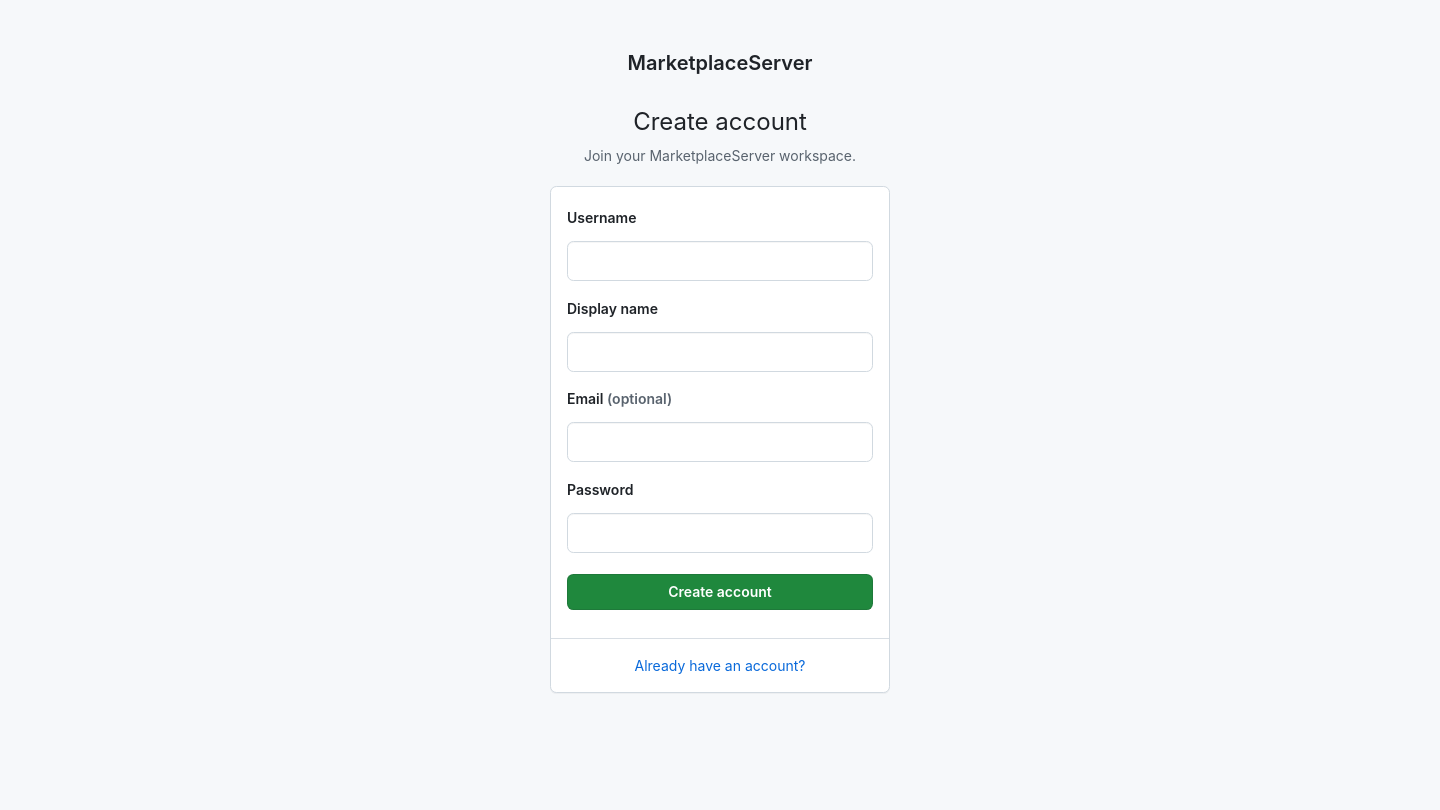
Scenario: identity console › loads the registered user profile immediately after signup
Type "alice" into the field labelled "Username" at coordinates (720, 261), box x1=567 y1=241 x2=873 y2=281
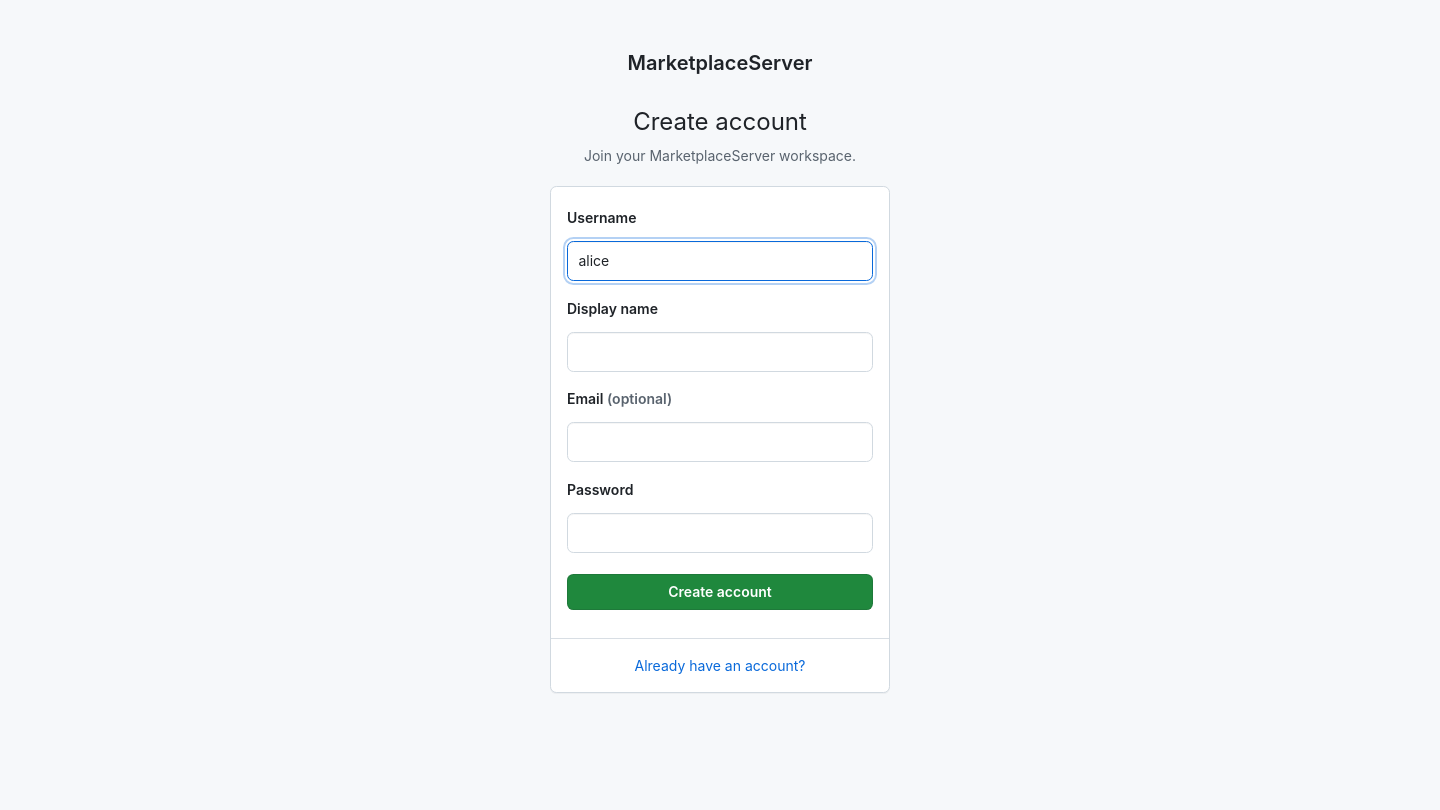
Type "Alice" into the field labelled "Display name" at coordinates (720, 352), box x1=567 y1=332 x2=873 y2=372
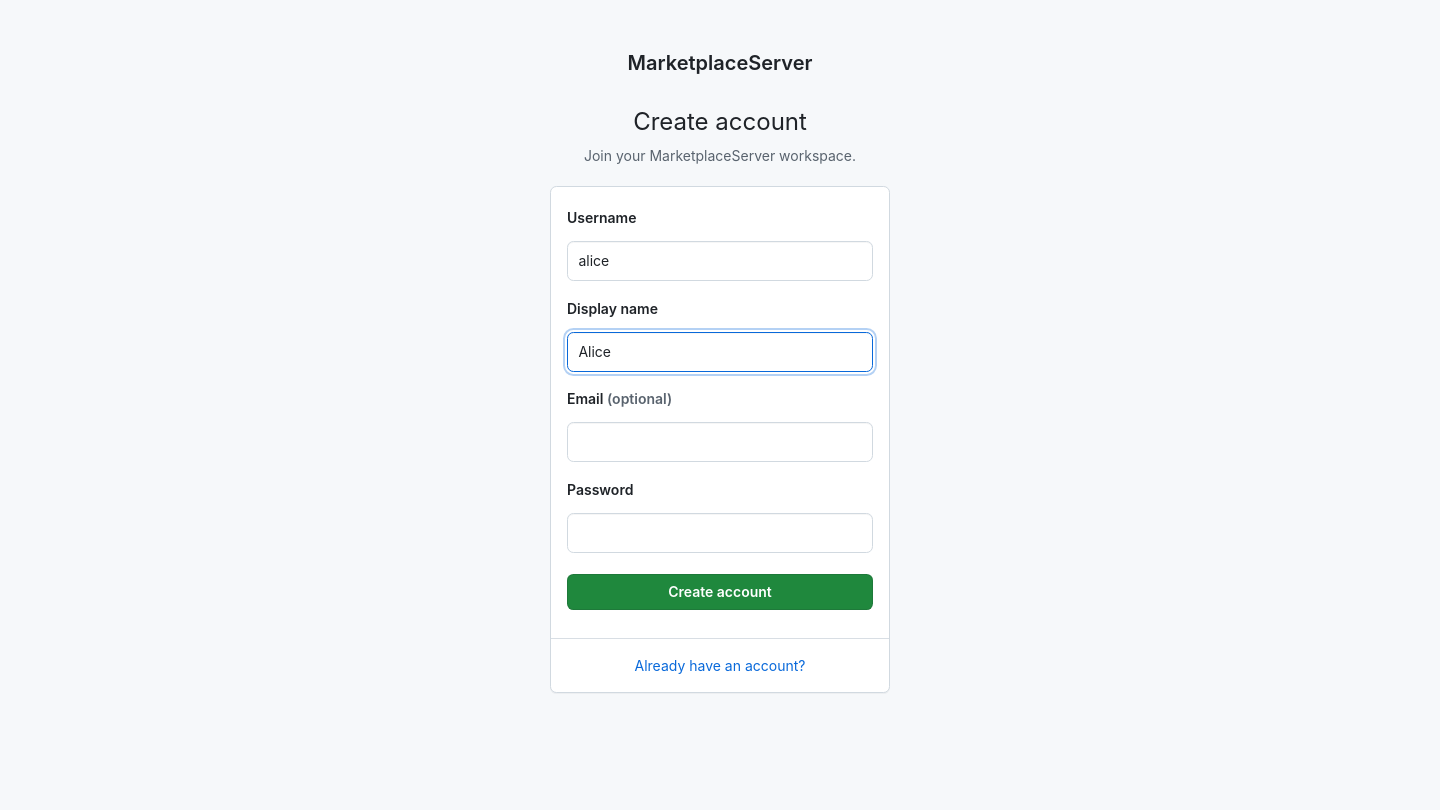
Type "correct horse battery staple" into the password field labelled "Password" at coordinates (720, 533), box x1=567 y1=513 x2=873 y2=553
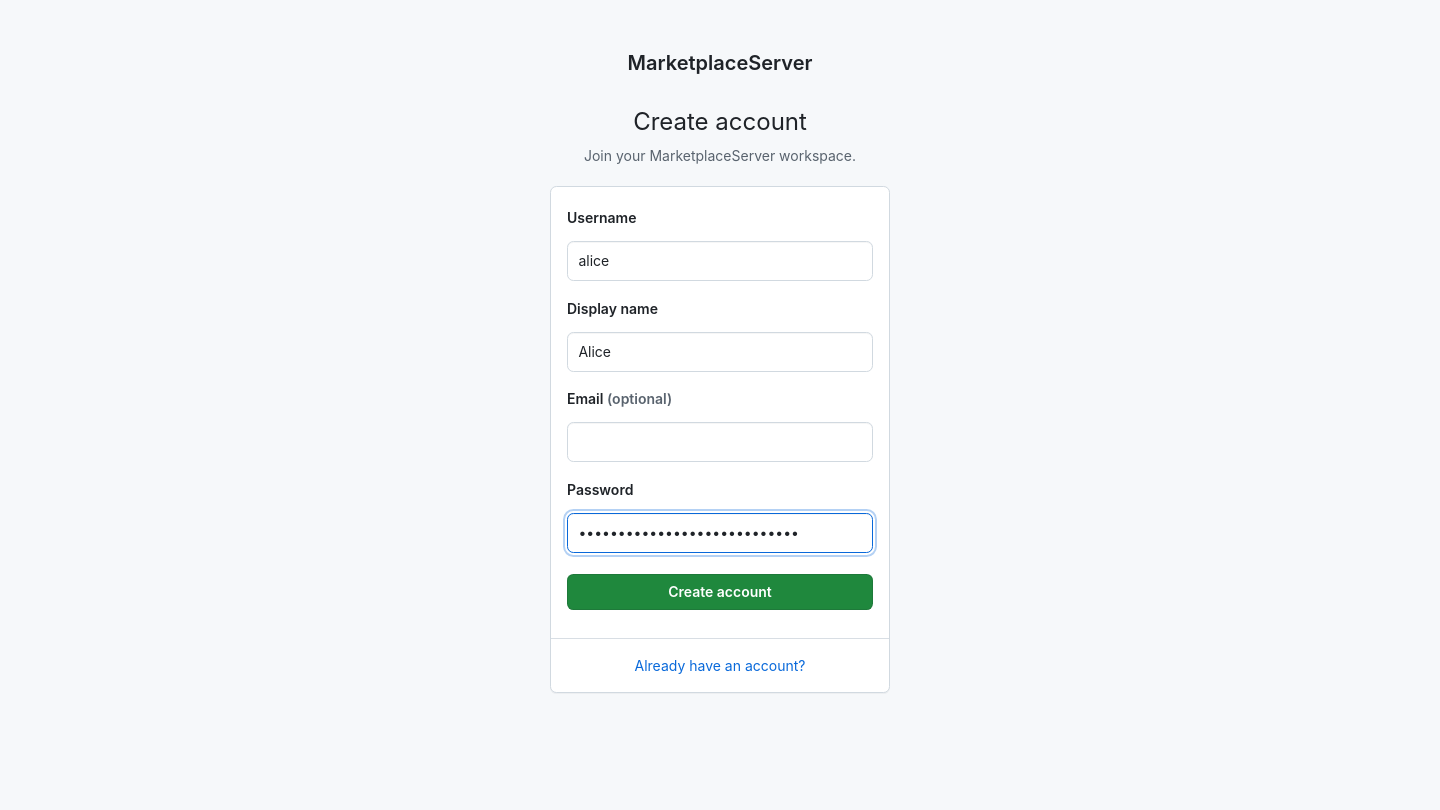
Click the button "Create account" at coordinates (720, 592), box x1=567 y1=574 x2=873 y2=610
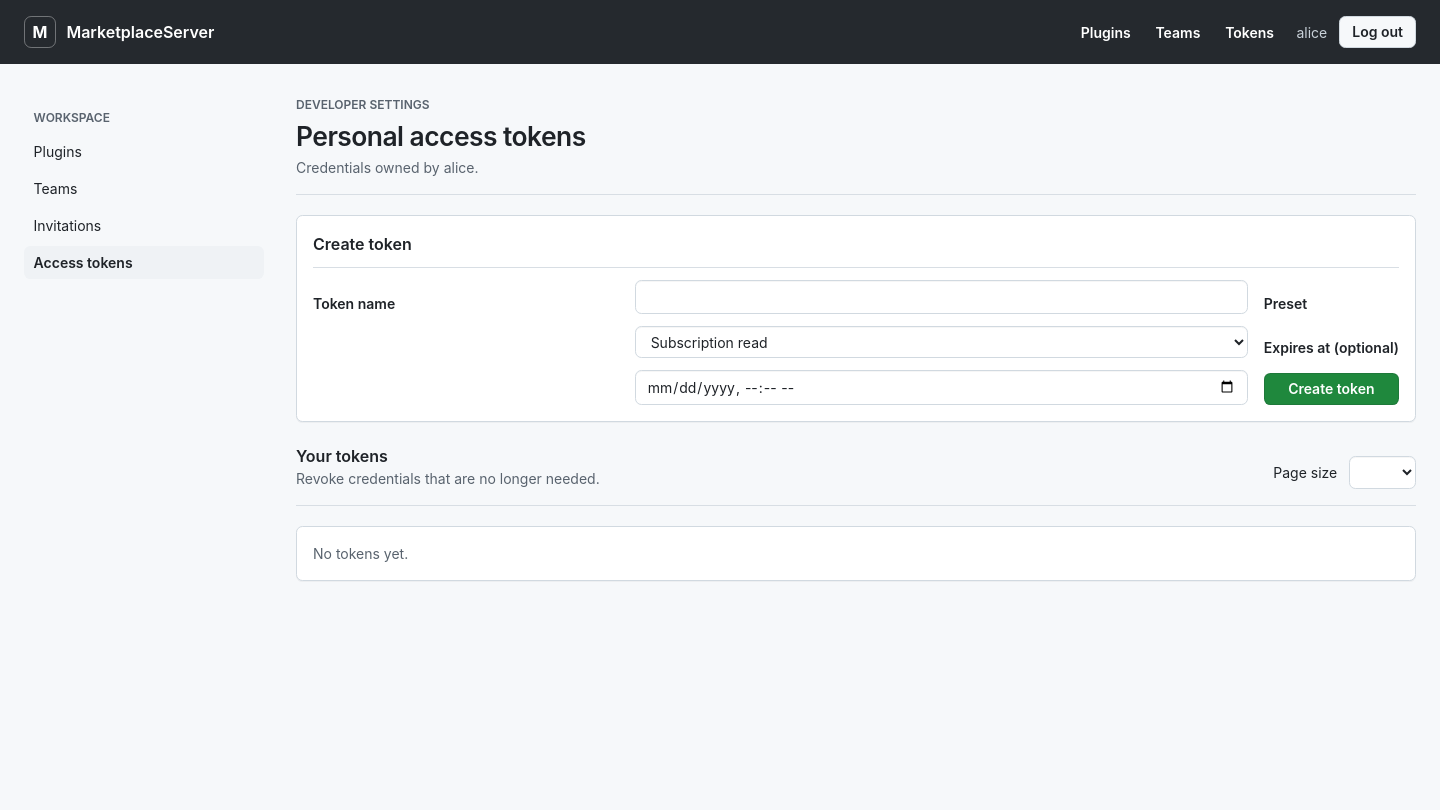
expect the text "Credentials owned by alice." is shown: met, box x1=296 y1=159 x2=478 y2=176
